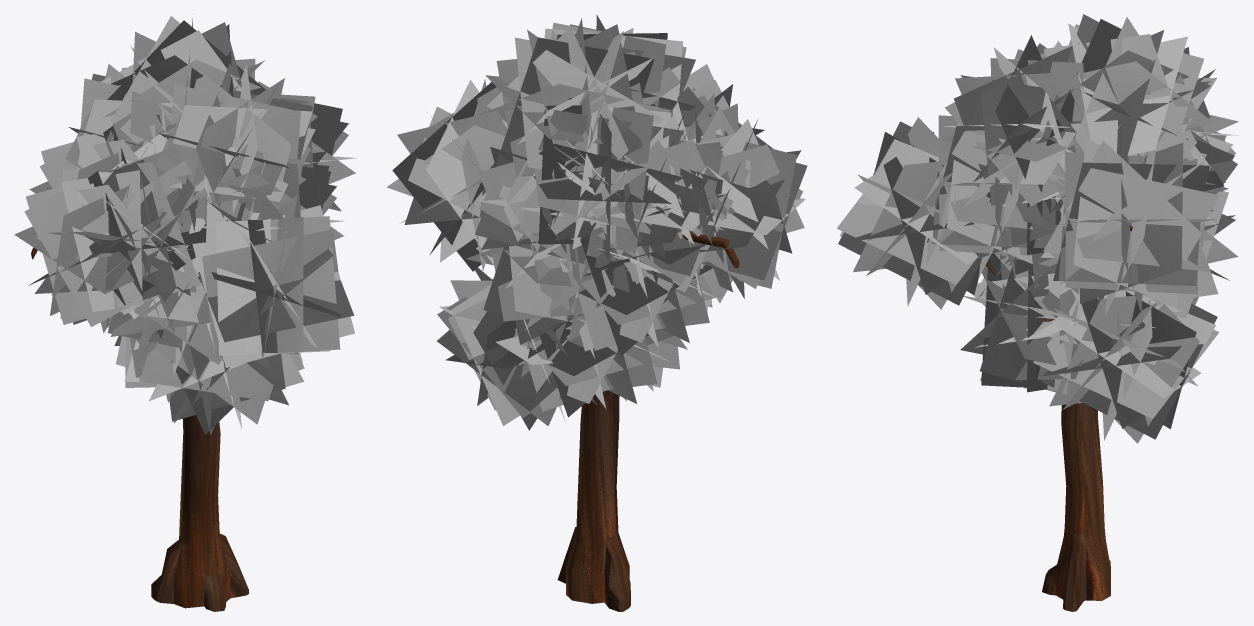
The model's file is town tree4.fbx.
The picture shows the model from 3 angles, left to right: view 1: azimuth 30°, elevation 25°; view 2: azimuth 150°, elevation 25°; view 3: azimuth 270°, elevation 25°; orthographic projection. The views are drawn at different scales.
Parts seen in each view (by area): view 1: leaves, tree; view 2: leaves, tree; view 3: leaves, tree.
Part boxes in pixels (box(x1,y1,x2,y2)): leaves: box(14, 14, 357, 434); tree: box(31, 247, 248, 611); leaves: box(387, 14, 807, 430); tree: box(557, 98, 739, 611); leaves: box(837, 14, 1238, 443); tree: box(986, 225, 1132, 611).
Size of the model in its own units: 590 by 925 by 586.
